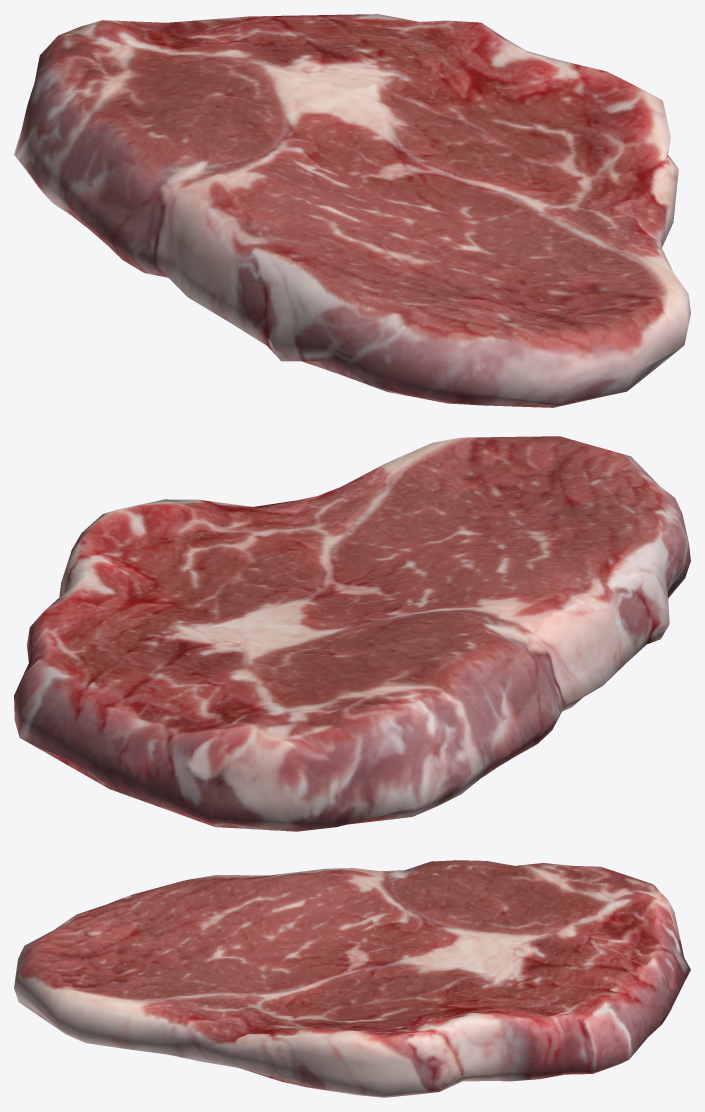
File: Prop_Meat.fbx
3 views of the same model, one above another, from view 1: azimuth 30°, elevation 25°; view 2: azimuth 150°, elevation 25°; view 3: azimuth 270°, elevation 25° (orthographic). The views are drawn at different scales.
Visible parts, largest first — view 1: Prop_Meat; view 2: Prop_Meat; view 3: Prop_Meat.
Part boxes in pixels (x1,y1,x2,y2): Prop_Meat: (14, 14, 690, 407); Prop_Meat: (14, 436, 690, 831); Prop_Meat: (14, 860, 690, 1097).
Size of the model in its own units: 7.61 by 1.67 by 11.82.
